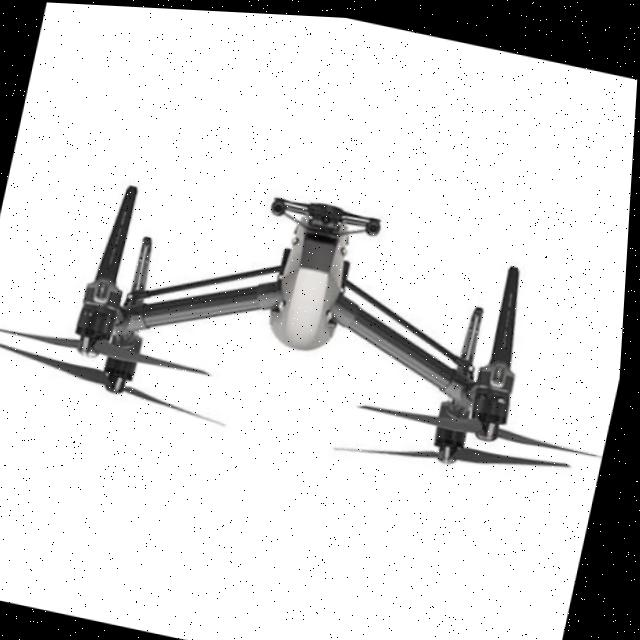drones: (0, 94, 636, 518)
